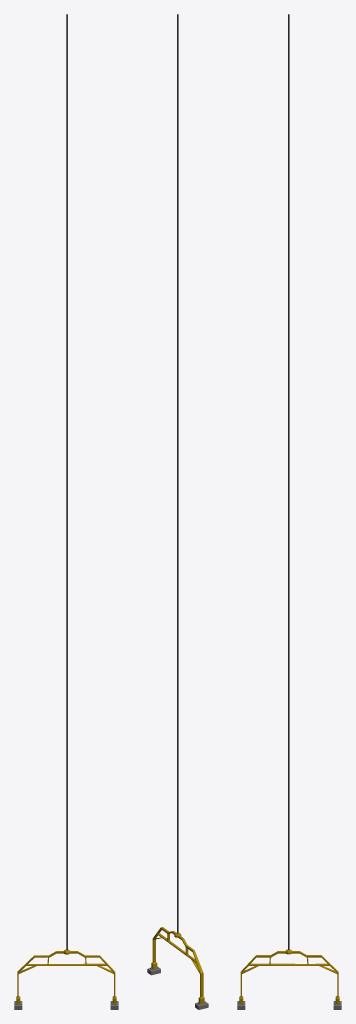
File: Halterung6.fbx
The picture shows the model from 3 angles, left to right: view 1: azimuth 90°, elevation 25°; view 2: azimuth 210°, elevation 25°; view 3: azimuth 270°, elevation 25°; orthographic projection.
Visible parts, largest first — view 1: HalterungV2Looping; view 2: HalterungV2Looping; view 3: HalterungV2Looping.
Boxes of the visible parts, x1,y1,x2,y2 form: HalterungV2Looping: (14,14,118,1009); HalterungV2Looping: (147,14,208,1009); HalterungV2Looping: (237,14,341,1009).
Size of the model in its own units: 556 by 51442 by 4909.
